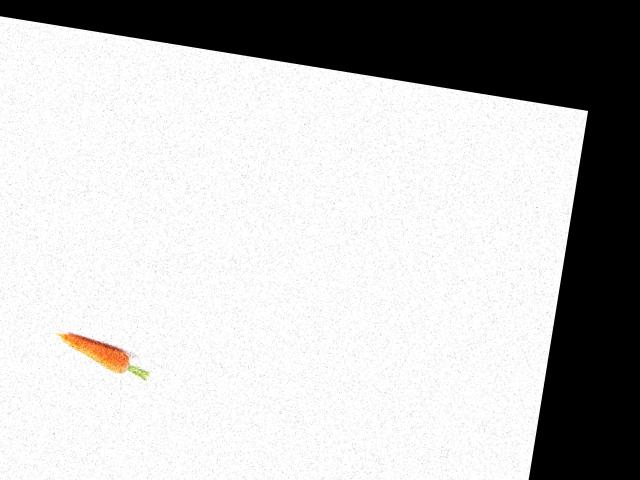carrot: (47, 323, 142, 384)
